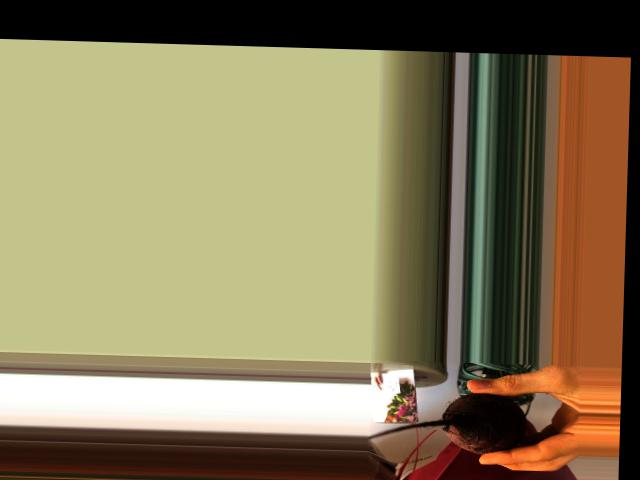beet: (365, 389, 529, 455)
